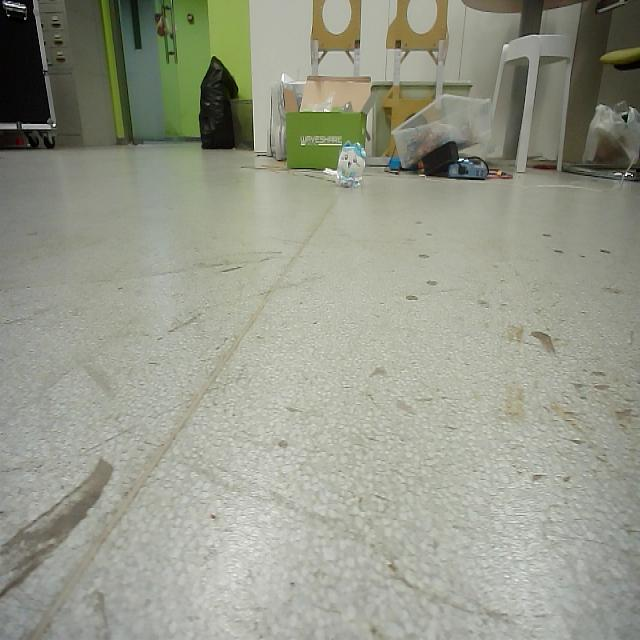xiaoba: (336, 138, 370, 190)
